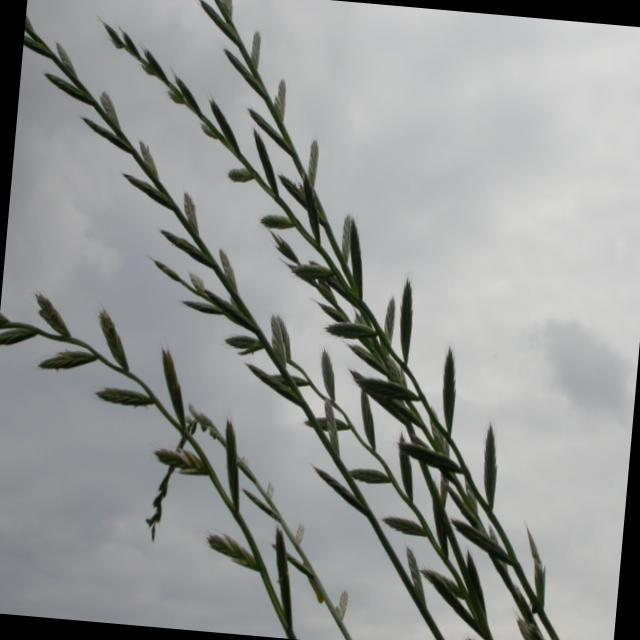Lolium: (53, 16, 593, 612), (0, 16, 476, 609), (148, 0, 547, 640), (229, 226, 595, 640), (0, 296, 326, 639), (133, 400, 373, 640)
